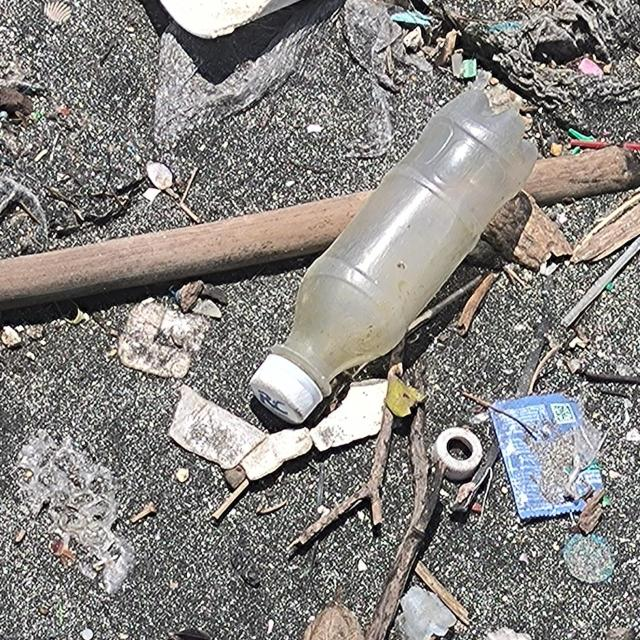plastic_waste: (248, 84, 542, 428), (487, 392, 607, 521)
